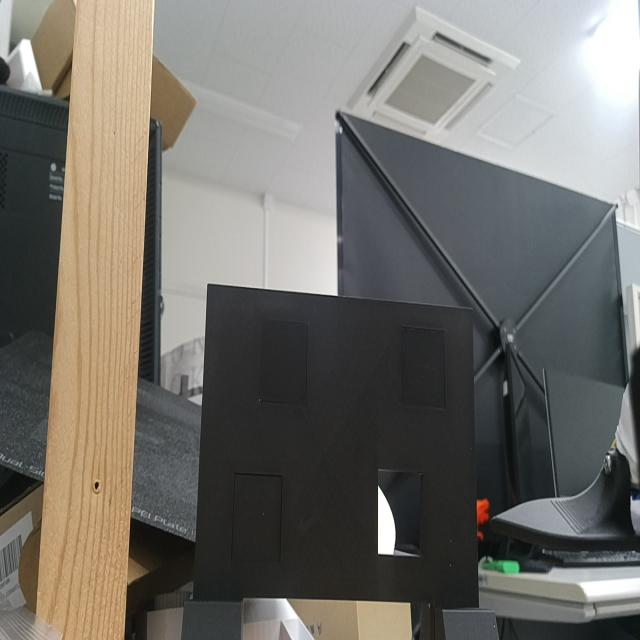Obstacle: (378, 468, 423, 556)
Wall: (196, 286, 478, 607)
